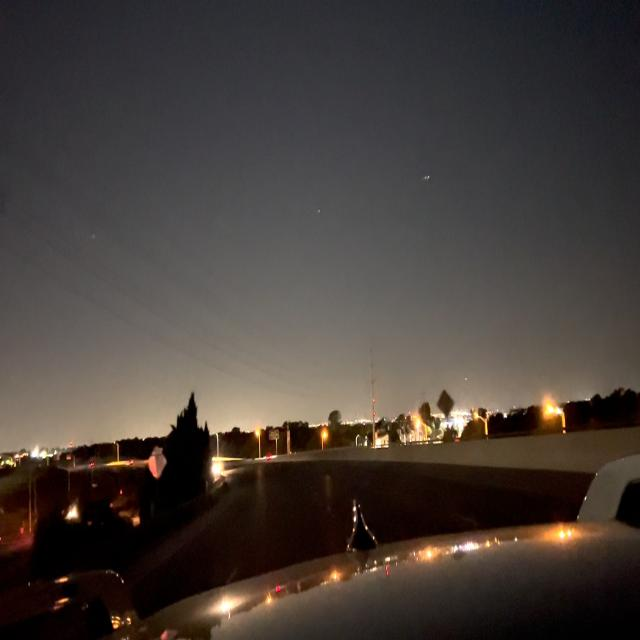back-of-sign: (147, 445, 166, 479)
